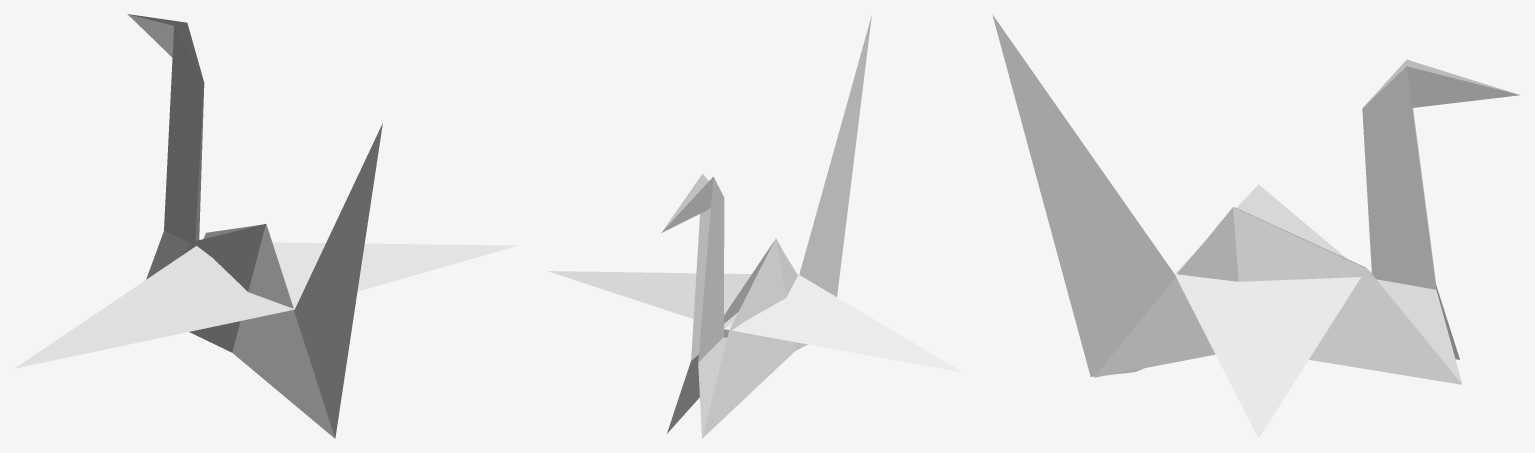
File: crane.gltf
3 renders of one model, left to right at view 1: azimuth 30°, elevation 25°; view 2: azimuth 150°, elevation 25°; view 3: azimuth 270°, elevation 25°, orthographic. The views are drawn at different scales.
Parts seen in each view (by area): view 1: plane; view 2: plane; view 3: plane.
Boxes of the visible parts, left/top/right/bottom form: plane: left=15, top=14, right=517, bottom=438; plane: left=548, top=15, right=962, bottom=438; plane: left=992, top=14, right=1520, bottom=438.
Size of the model in its own units: 0.3813 by 0.2535 by 0.3345.
1 material, 1 textured.
